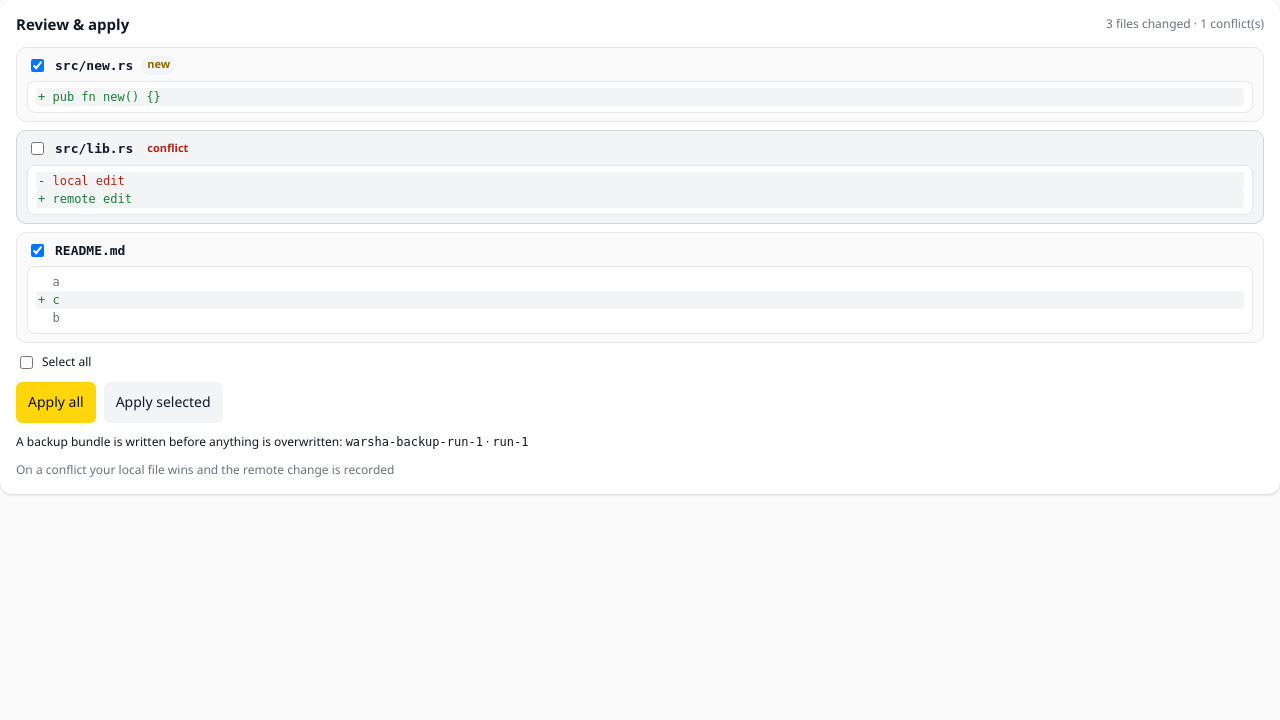
Test case: ReviewApplyPanel › select all toggles the whole list
The image size is (1280, 720).
Click the checkbox with test id "review-apply-select-all-checkbox" at (26, 362), box [20, 356, 33, 369]
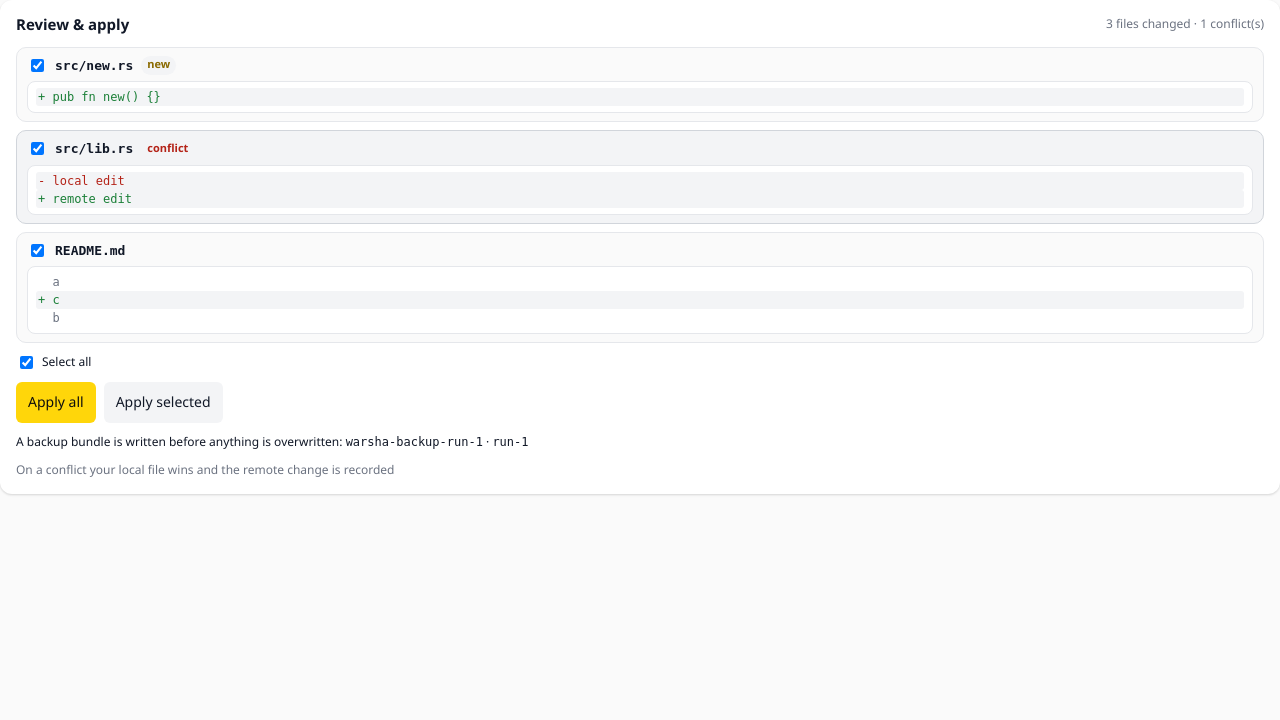
Expected: the checkbox with test id "review-file-checkbox-0" is checked, [31, 59, 44, 72]
Now the checkbox with test id "review-apply-select-all-checkbox" is checked
Now the checkbox with test id "review-file-checkbox-1" is checked, box [31, 142, 44, 155]
Click the checkbox with test id "review-apply-select-all-checkbox" at (26, 362), box [20, 356, 33, 369]
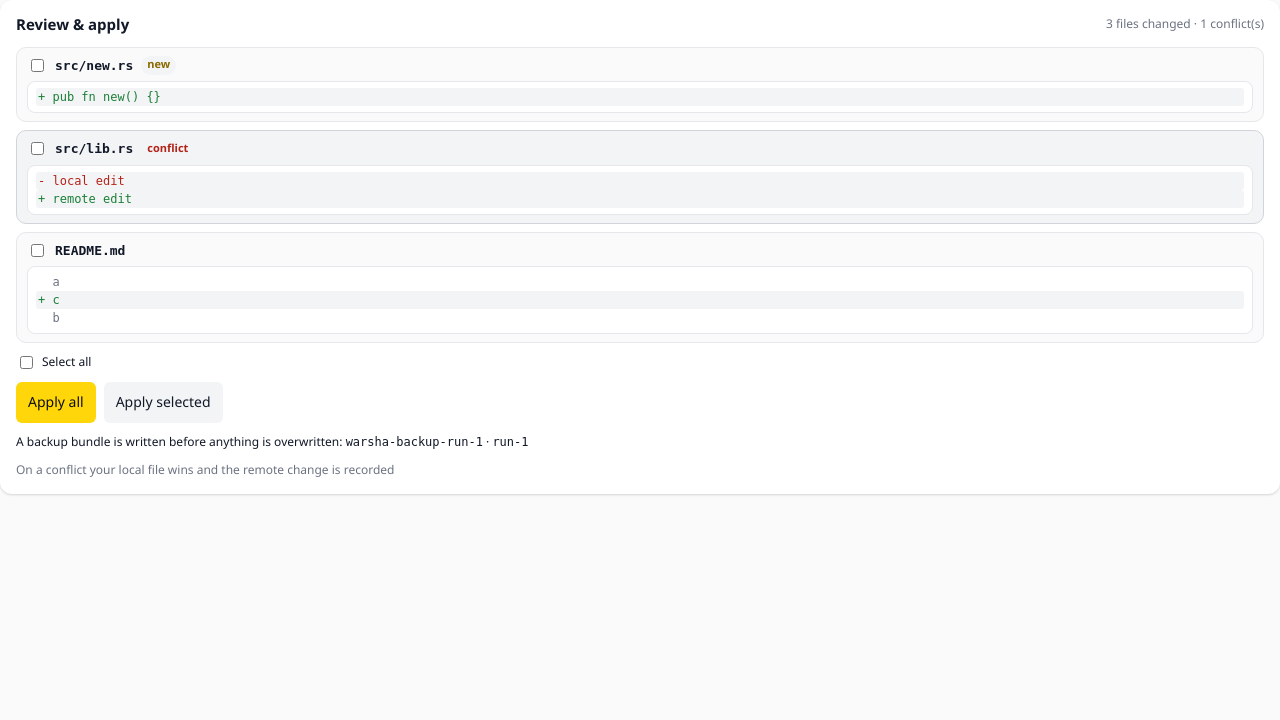
Now the checkbox with test id "review-apply-select-all-checkbox" is not checked, box [20, 356, 33, 369]
Now the checkbox with test id "review-file-checkbox-0" is not checked, box [31, 59, 44, 72]
Now the checkbox with test id "review-file-checkbox-1" is not checked, box [31, 142, 44, 155]
